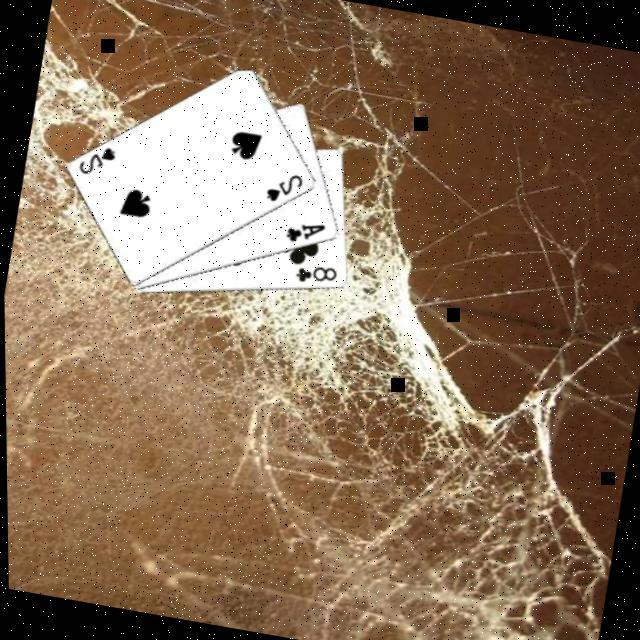2S: (262, 168, 308, 210), (75, 140, 121, 182)
8C: (292, 259, 342, 293)
AC: (283, 216, 329, 251)
